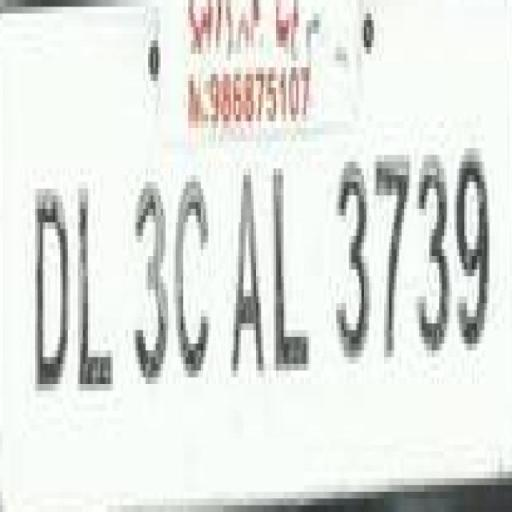number plate: (0, 88, 502, 498)
